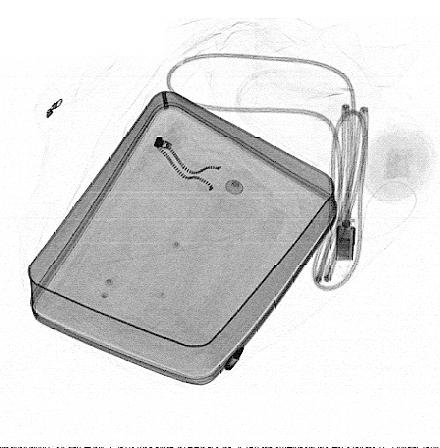Bullet: (224, 345, 245, 371)
